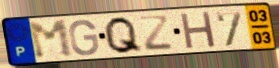7: (215, 9, 244, 48)
G: (67, 18, 101, 57)
H: (178, 10, 218, 51)
M: (25, 19, 76, 61)
Q: (103, 15, 145, 56)
Z: (137, 15, 175, 53)
